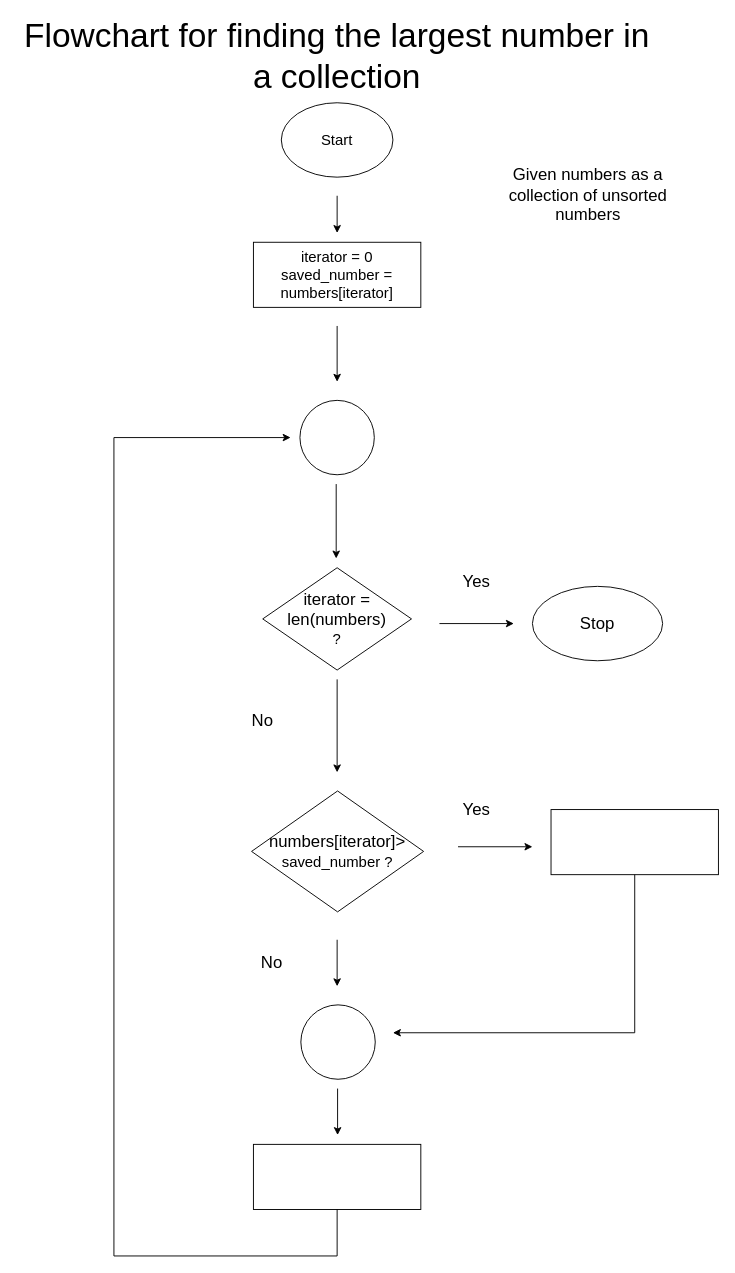
The diagram is 735 pixels wide and 1273 high, and some of its shapes have lost their labels. Each missing label, with the box of its shape:
iterator = iterator + 1: (252, 1143, 421, 1209)
saved_number = numbers[iterator]: (550, 809, 718, 875)
